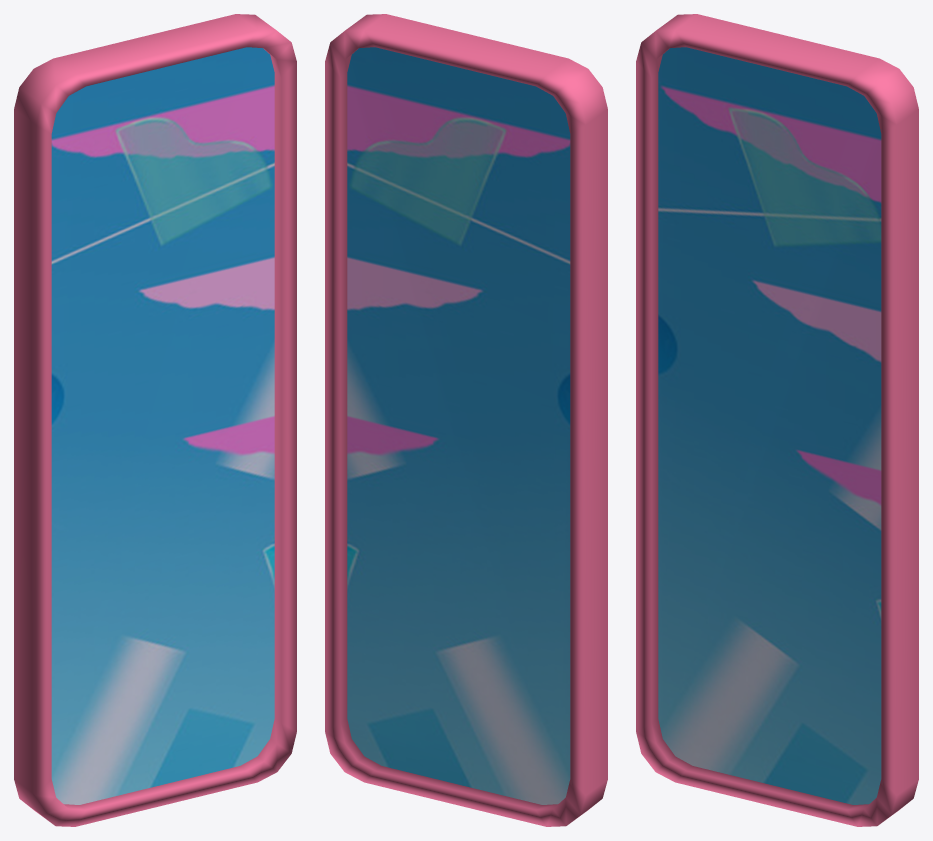
The model's file is PLF0110003.fbx.
3 renders of one model, left to right at view 1: azimuth 30°, elevation 25°; view 2: azimuth 150°, elevation 25°; view 3: azimuth 330°, elevation 25°, orthographic.
Parts seen in each view (by area): view 1: smPLF0110003; view 2: smPLF0110003; view 3: smPLF0110003.
Boxes of the visible parts, x1,y1,x2,y2 form: smPLF0110003: [14, 14, 296, 826]; smPLF0110003: [325, 14, 607, 826]; smPLF0110003: [636, 14, 918, 826].
Bounding box in the file's own units: 159 × 437 × 23.27.
Materials: 1 (1 with a texture image).
